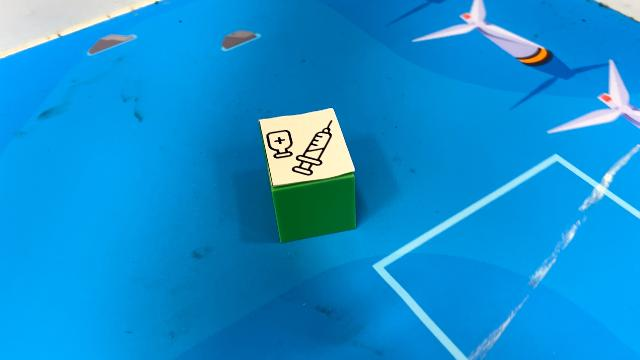syringe: (258, 107, 358, 243)
